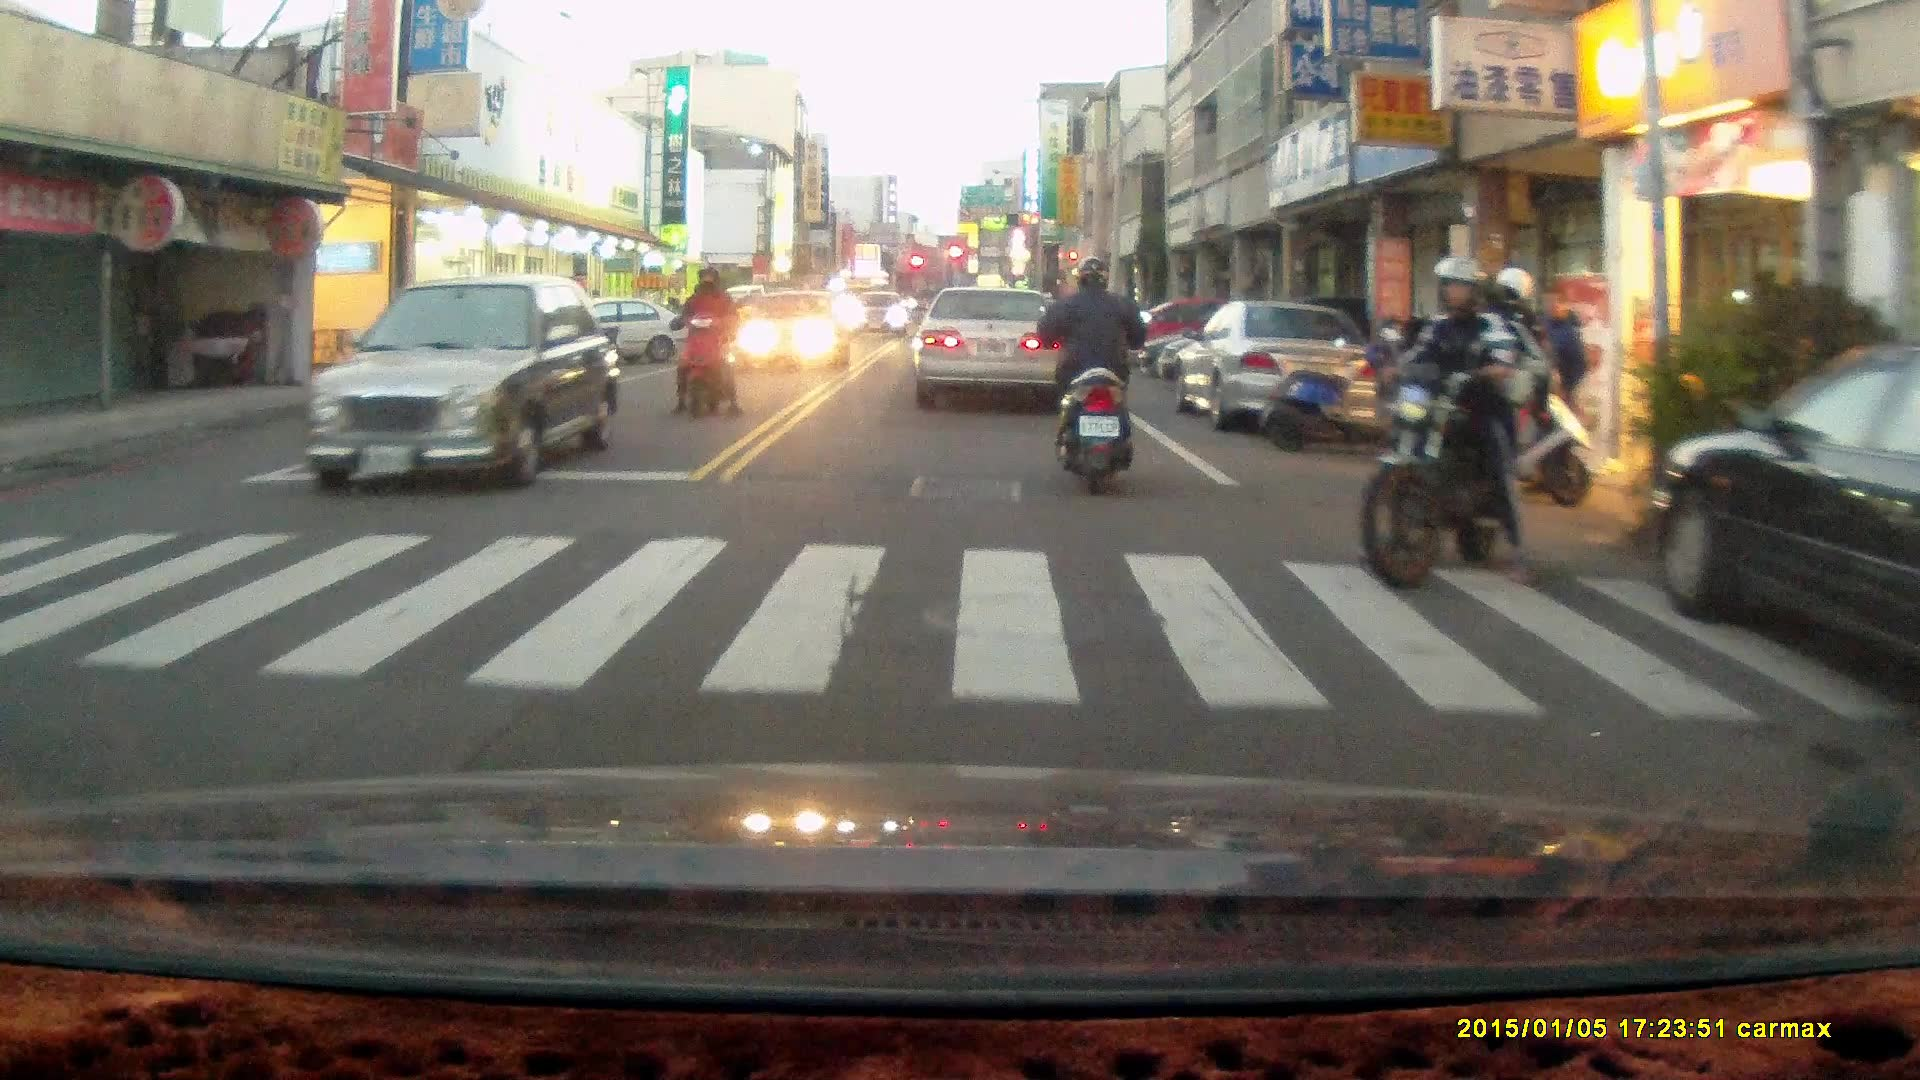pedestrian: (1533, 283, 1588, 472)
rider: (1360, 257, 1551, 582), (1033, 252, 1150, 492), (667, 261, 742, 421)
vehicle: (1644, 335, 1920, 720), (312, 274, 623, 493), (1181, 303, 1389, 437), (917, 287, 1072, 400), (728, 286, 845, 372)
